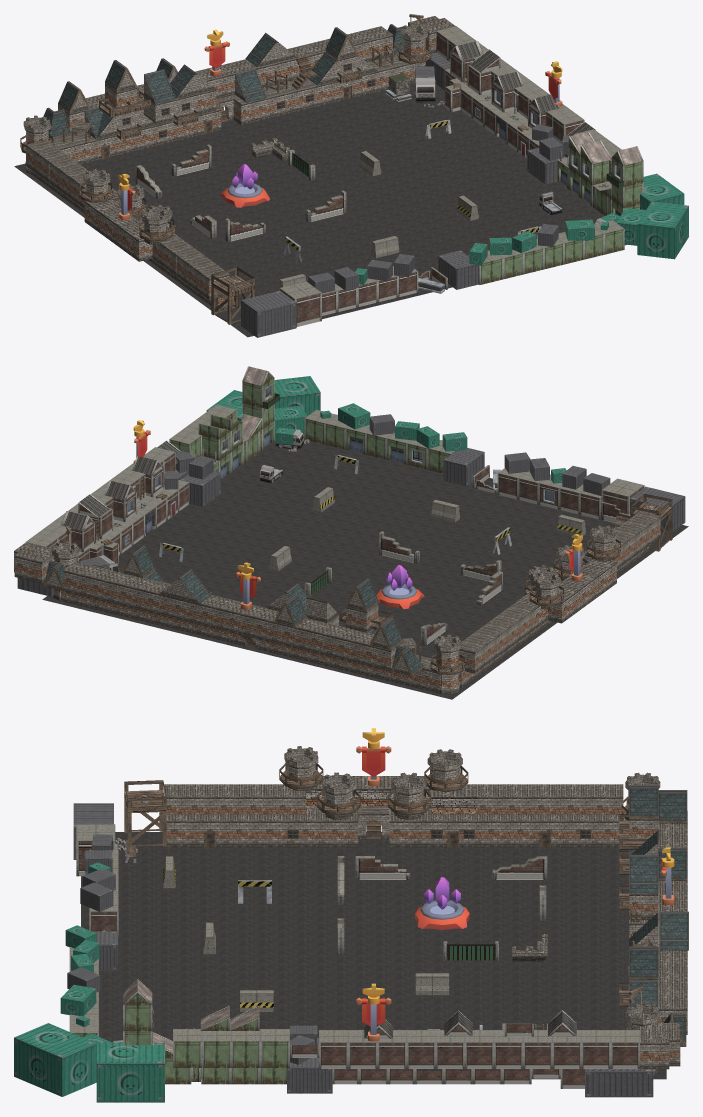
File: map3.fbx
3 renders of one model, top to bottom at view 1: azimuth 30°, elevation 25°; view 2: azimuth 150°, elevation 25°; view 3: azimuth 270°, elevation 25°, orthographic. The views are drawn at different scales.
Parts seen in each view (by area): view 1: truck_green_cargo__3_, truck_grey_cargo__3_, wall_a__11_, truck_grey_cargo__2_, truck_green_cargo__2_, wall_paint__60_, tower_round_crystals, wall_paint__48_, truck_grey_cargo, wood_floor_railing__4_, roof_high_side__2_, roof_high_side__5_ (+54 smaller); view 2: truck_green_cargo__3_, truck_grey_cargo__2_, truck_grey_cargo__3_, wall_paint__47_, wall_paint__48_, wall_paint__45_, wall_paint__40_, wall_paint__41_, wall_paint__50_, truck_grey_cargo, wall_paint__44_, wall_a__11_ (+48 smaller); view 3: truck_green_cargo__3_, truck_green_cargo__2_, truck_grey_cargo__7_, truck_grey_cargo__4_, wall_paint__35_, tower_round_crystals, wall_paint__57_, wall_paint__29_, roof_high_side__6_, roof_high_side__8_, wall_paint__49_, wall_paint__30_ (+75 smaller).
Part boxes in pixels (left/top/right/bottom): truck_green_cargo__3_: left=637, top=201, right=688, bottom=259; truck_grey_cargo__3_: left=241, top=290, right=296, bottom=337; wall_a__11_: left=279, top=281, right=321, bottom=326; truck_grey_cargo__2_: left=438, top=250, right=478, bottom=289; truck_green_cargo__2_: left=640, top=173, right=684, bottom=209; wall_paint__60_: left=121, top=222, right=152, bottom=261; tower_round_crystals: left=220, top=182, right=269, bottom=207; wall_paint__48_: left=355, top=26, right=392, bottom=61; truck_grey_cargo: left=527, top=147, right=566, bottom=184; wood_floor_railing__4_: left=211, top=267, right=254, bottom=296; roof_high_side__2_: left=235, top=68, right=266, bottom=102; roof_high_side__5_: left=144, top=69, right=175, bottom=103; truck_green_cargo__3_: left=274, top=376, right=320, bottom=415; truck_grey_cargo__2_: left=443, top=448, right=484, bottom=486; truck_grey_cargo__3_: left=629, top=486, right=685, bottom=533; wall_paint__47_: left=90, top=568, right=129, bottom=604; wall_paint__48_: left=63, top=561, right=101, bottom=597; wall_paint__45_: left=118, top=575, right=156, bottom=611; wall_paint__40_: left=309, top=621, right=347, bottom=657; wall_paint__41_: left=336, top=628, right=374, bottom=664; wall_paint__50_: left=14, top=552, right=53, bottom=583; truck_grey_cargo: left=180, top=470, right=220, bottom=506; wall_paint__44_: left=199, top=595, right=238, bottom=631; wall_a__11_: left=601, top=478, right=644, bottom=514; truck_green_cargo__3_: left=14, top=1023, right=96, bottom=1096; truck_green_cargo__2_: left=96, top=1043, right=164, bottom=1102; truck_grey_cargo__7_: left=585, top=1069, right=653, bottom=1097; truck_grey_cargo__4_: left=287, top=1058, right=332, bottom=1093; wall_paint__35_: left=166, top=814, right=204, bottom=847; tower_round_crystals: left=415, top=900, right=469, bottom=929; wall_paint__57_: left=431, top=784, right=476, bottom=814; wall_paint__29_: left=389, top=808, right=426, bottom=847; roof_high_side__6_: left=629, top=854, right=658, bottom=893; roof_high_side__8_: left=659, top=911, right=688, bottom=950; wall_paint__49_: left=640, top=1026, right=669, bottom=1069; wall_paint__30_: left=262, top=814, right=299, bottom=847.
Bounding box in the file's own units: 3433 × 608 × 3458.
135 materials, 135 textured.
